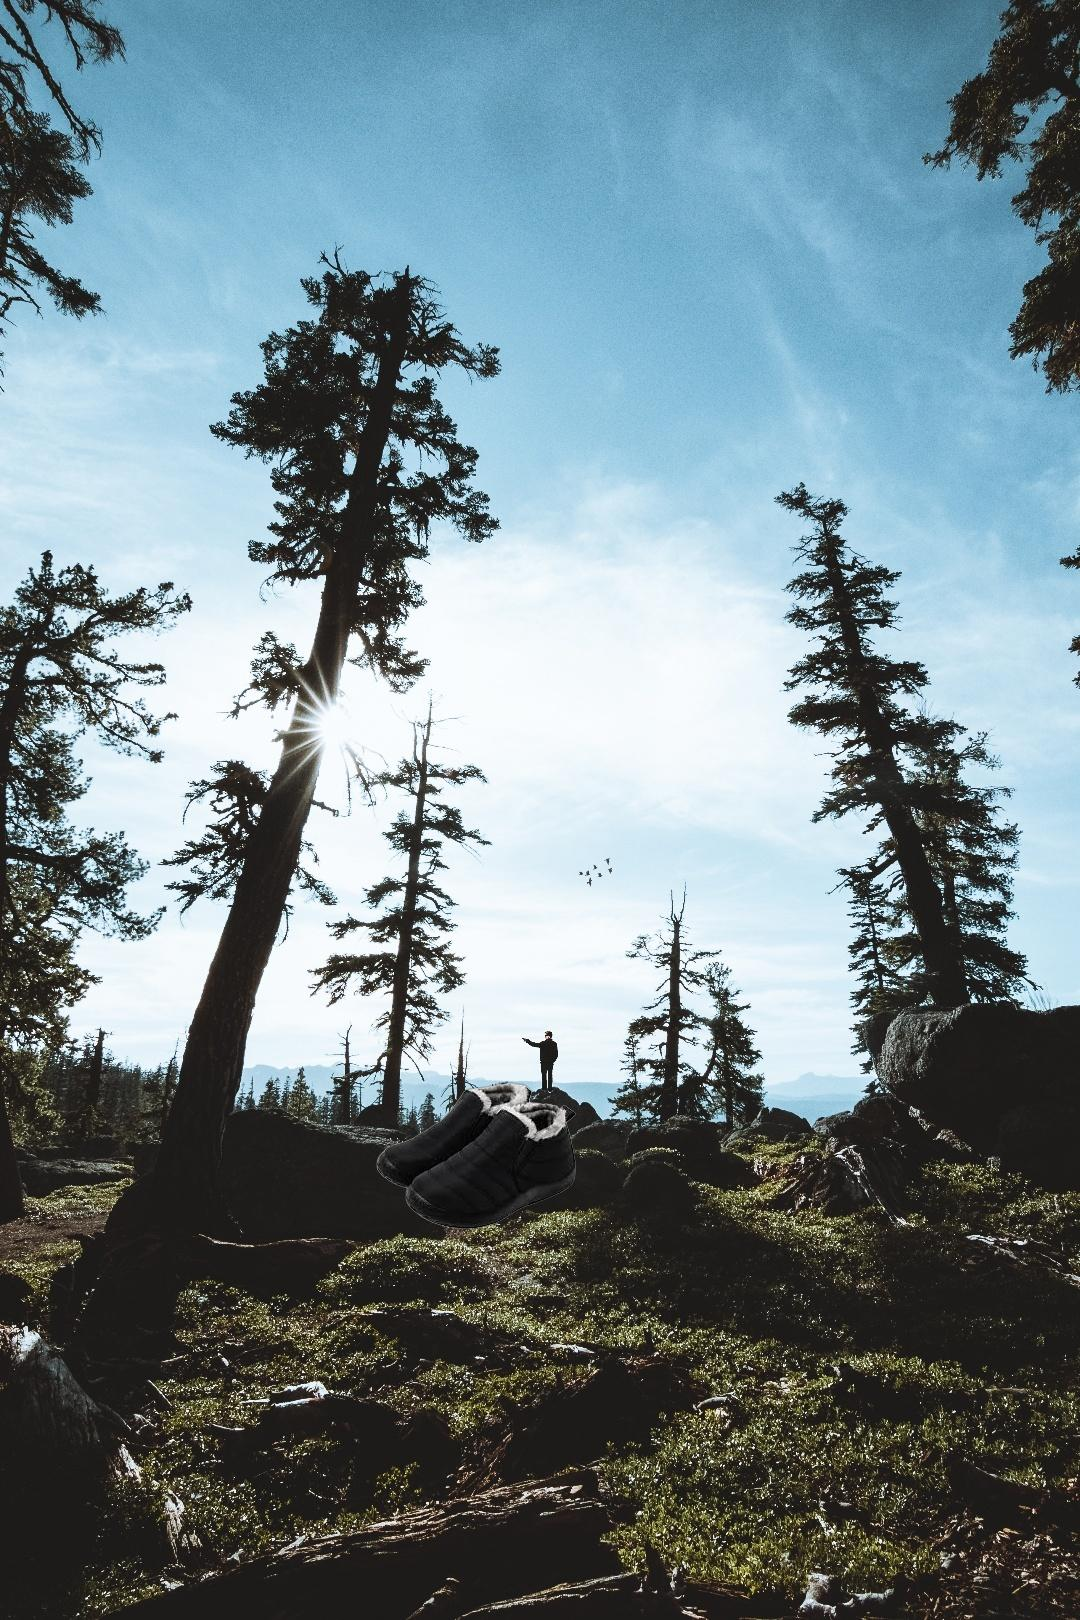shoes: (374, 1080, 579, 1231)
